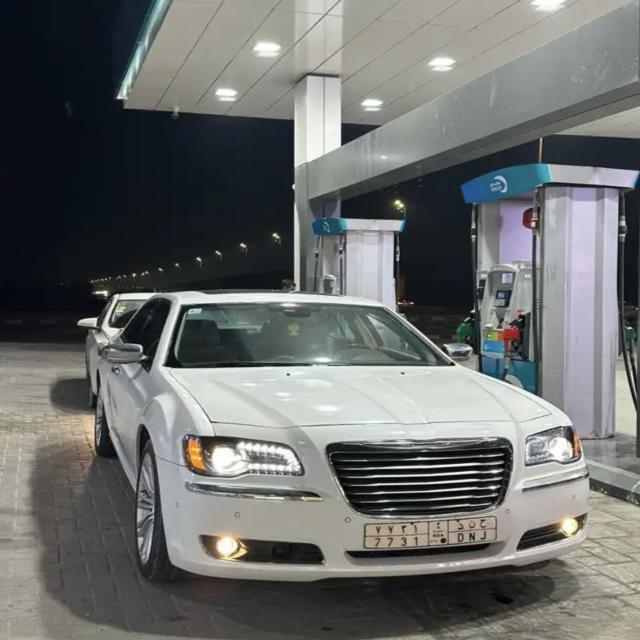license_plate: (364, 516, 498, 550)
